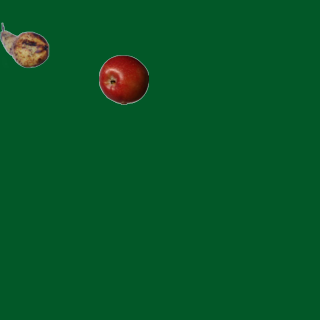Apple Braeburn: (98, 54, 148, 104)
Pear Abate: (0, 20, 49, 70)
